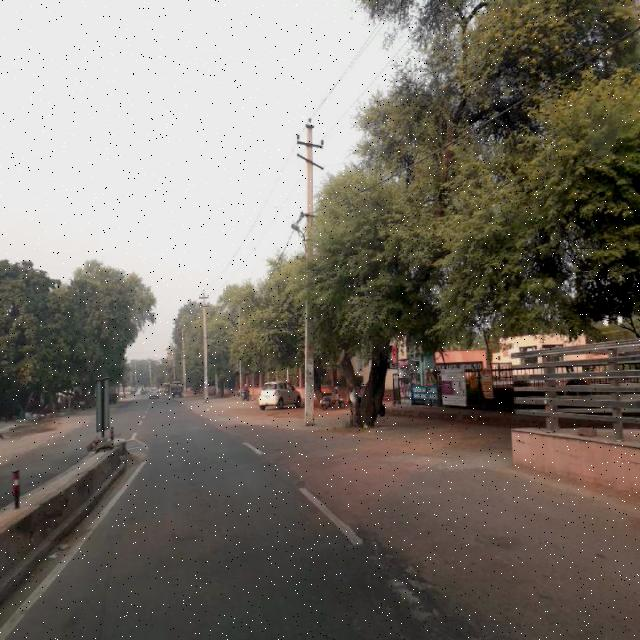D44: (357, 540, 459, 639)
